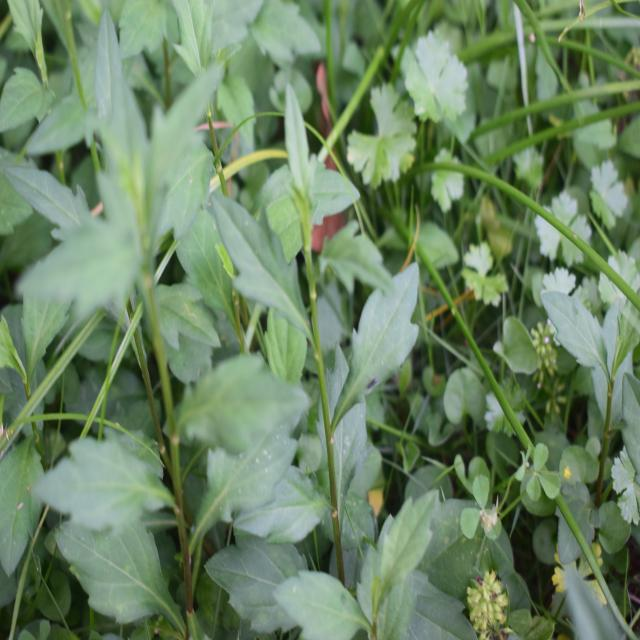Indian aster: (242, 128, 431, 570)
